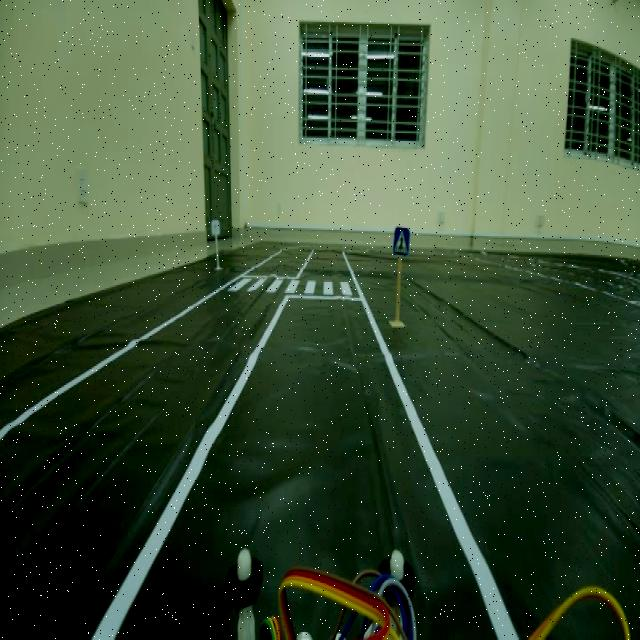crosswalk: (388, 218, 414, 264)
